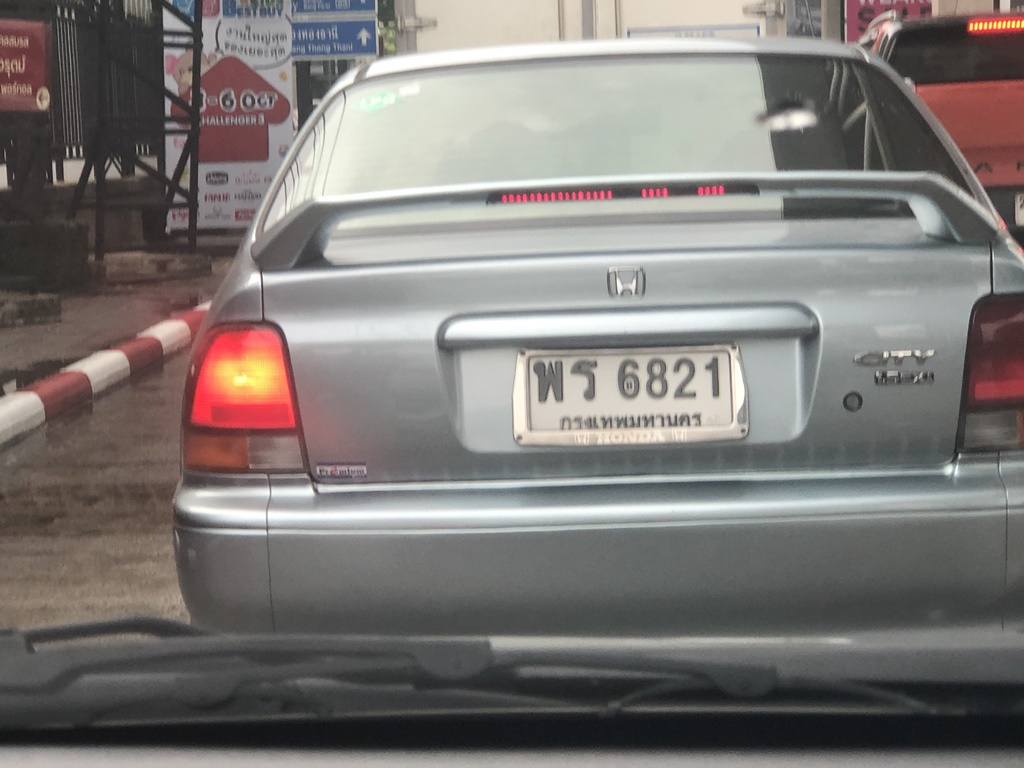eight: (635, 351, 670, 403)
six: (607, 348, 642, 408)
